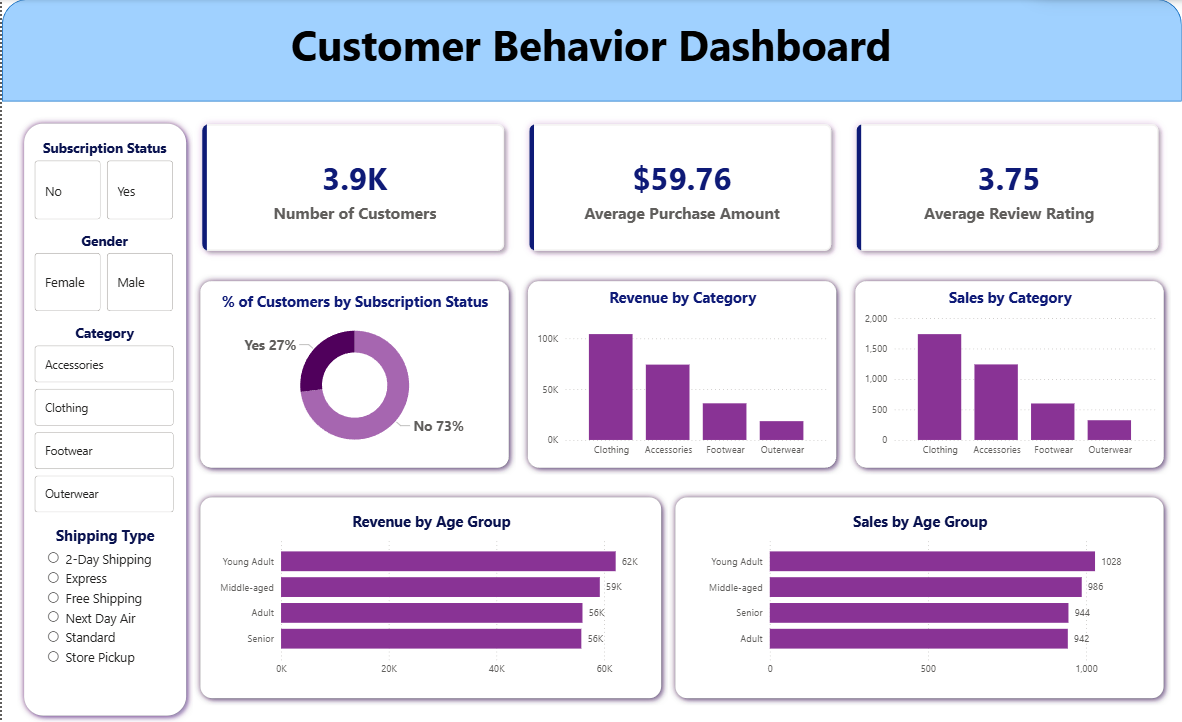

The dashboard page shown, as its layout file describes it:
{"tool":"powerbi","page":{"name":"Page 1","canvas":[1500,920],"ordinal":0},"visuals":[{"type":"cardVisual","fields":{"Data":["public customer.Number of Customers","public customer.Average Purchase Amount","public customer.Average Review Rating"]},"box":[225.2,130.5,1275.1,219.4],"z":0},{"type":"shape","box":[0,0,1500.3,130.5],"z":1000},{"type":"textbox","box":[362.9,15.8,1137.4,114.7],"z":2000},{"type":"shape","box":[243.8,350,410.2,255.3],"z":3000},{"type":"donutChart","title":"% of Customers by Subscription Status","fields":{"Category":["public customer.subscription_status"],"Y":["CountNonNull(public customer.customer_id)"]},"box":[253.9,371.5,388.7,213.7],"z":4000},{"type":"shape","box":[659.8,350,410.2,255.3],"z":5000},{"type":"shape","box":[1075.7,350,410.2,255.3],"z":6000},{"type":"clusteredColumnChart","title":"Revenue by Category","fields":{"Y":["Sum(public customer.purchase_amount)"],"Category":["public customer.category"]},"box":[675.6,367.2,380.1,223.8],"z":7000},{"type":"clusteredColumnChart","title":"Sales by Category","fields":{"Y":["CountNonNull(public customer.customer_id)"],"Category":["public customer.category"]},"box":[1091.5,367.2,380.1,223.8],"z":8000},{"type":"shape","box":[19.1,149.4,224.1,770.9],"z":9000},{"type":"advancedSlicerVisual","title":"Subscription Status","fields":{"Values":["public customer.subscription_status"]},"box":[36.6,178,187.6,108.1],"z":10000},{"type":"advancedSlicerVisual","title":"Gender","fields":{"Values":["public customer.gender"]},"box":[36.6,296.2,187.6,106.5],"z":11000},{"type":"advancedSlicerVisual","title":"Category","fields":{"Values":["public customer.category"]},"box":[36.6,412.7,187.6,246.4],"z":12000},{"type":"listSlicer","title":"Shipping Type","fields":{"Values":["public customer.shipping_type"]},"box":[50.9,669.2,160.5,240],"z":13000},{"type":"shape","box":[243.2,624.7,604,273.4],"z":14000},{"type":"shape","box":[847.2,624.7,639,273.4],"z":15000},{"type":"clusteredBarChart","title":"Revenue by Age Group","fields":{"Y":["Sum(public customer.purchase_amount)"],"Category":["public customer.age_group"]},"box":[267,651.7,557.9,217.8],"z":16000},{"type":"clusteredBarChart","title":"Sales by Age Group","fields":{"Y":["CountNonNull(public customer.customer_id)"],"Category":["public customer.age_group"]},"box":[888.5,651.7,557.9,217.8],"z":17000}]}

Visuals, with their boxes in screenshot pixels (x1, y1, x2, y2), scaled from the page's 1500x920 canvas onto the 1182x722 screenshot:
cardVisual - public customer.Number of Customers x public customer.Average Purchase Amount: (left=177, top=102, right=1181, bottom=275)
shape: (left=0, top=0, right=1181, bottom=102)
textbox: (left=286, top=12, right=1181, bottom=102)
shape: (left=192, top=275, right=515, bottom=475)
"% of Customers by Subscription Status" donutChart: (left=200, top=292, right=506, bottom=459)
shape: (left=520, top=275, right=843, bottom=475)
shape: (left=848, top=275, right=1171, bottom=475)
"Revenue by Category" clusteredColumnChart: (left=532, top=288, right=832, bottom=464)
"Sales by Category" clusteredColumnChart: (left=860, top=288, right=1160, bottom=464)
shape: (left=15, top=117, right=192, bottom=721)
"Subscription Status" advancedSlicerVisual: (left=29, top=140, right=177, bottom=225)
"Gender" advancedSlicerVisual: (left=29, top=232, right=177, bottom=316)
"Category" advancedSlicerVisual: (left=29, top=324, right=177, bottom=517)
"Shipping Type" listSlicer: (left=40, top=525, right=167, bottom=714)
shape: (left=192, top=490, right=668, bottom=705)
shape: (left=668, top=490, right=1171, bottom=705)
"Revenue by Age Group" clusteredBarChart: (left=210, top=511, right=650, bottom=682)
"Sales by Age Group" clusteredBarChart: (left=700, top=511, right=1140, bottom=682)
